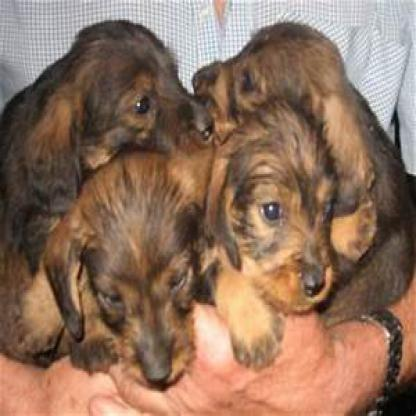dog: (43, 149, 284, 386), (0, 20, 215, 230), (210, 112, 414, 312), (191, 22, 344, 121)
